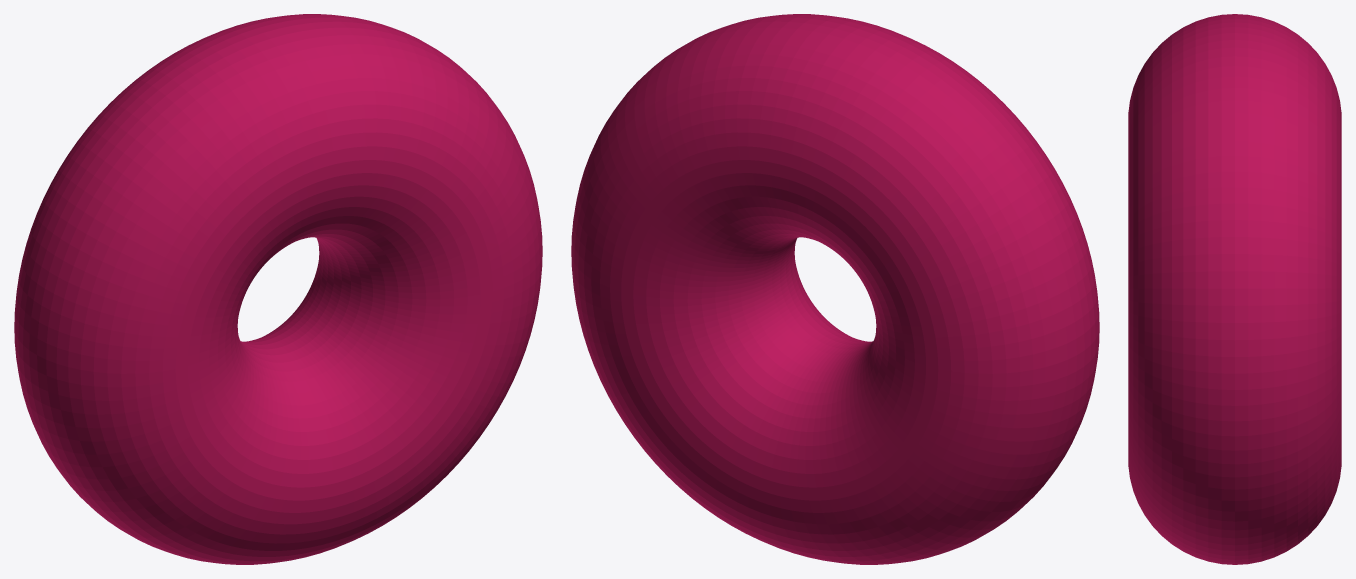
3 views of the same model, side by side, from view 1: azimuth 30°, elevation 25°; view 2: azimuth 150°, elevation 25°; view 3: azimuth 270°, elevation 25° (orthographic). The views are drawn at different scales.
Visible parts, largest first — view 1: world; view 2: world; view 3: world.
Boxes of the visible parts, left/top/right/bottom form: world: left=14, top=14, right=542, bottom=564; world: left=571, top=14, right=1099, bottom=564; world: left=1128, top=14, right=1341, bottom=564.
Size of the model in its own units: 25.07 by 25.07 by 9.71.
